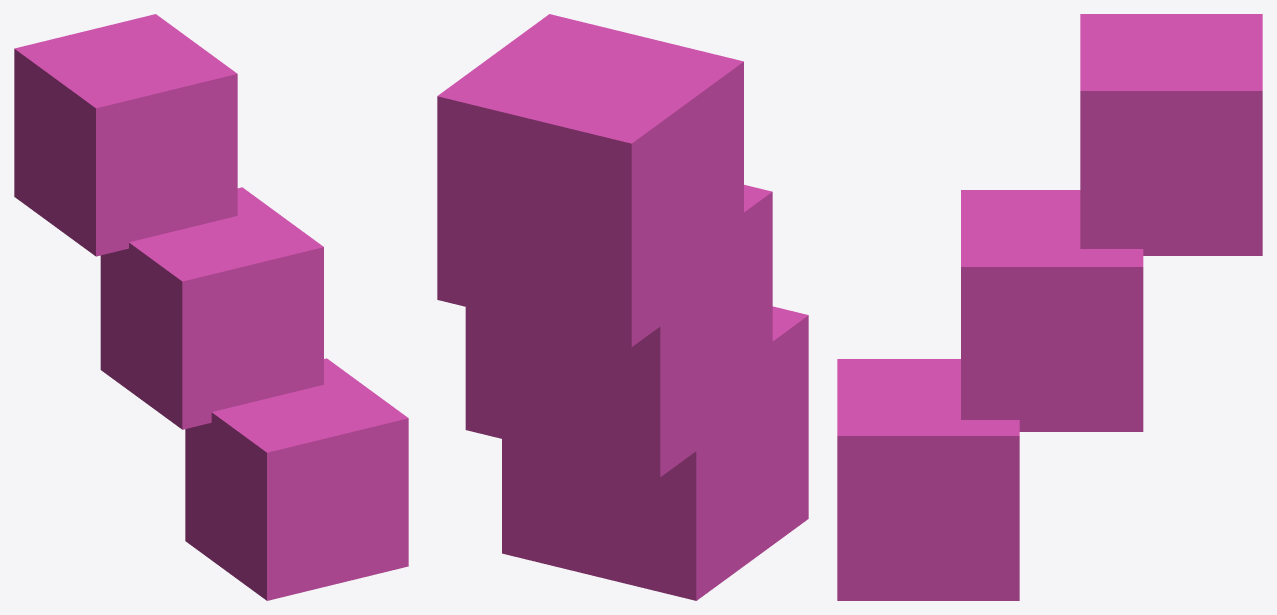
The picture shows the model from 3 angles, left to right: view 1: azimuth 30°, elevation 25°; view 2: azimuth 150°, elevation 25°; view 3: azimuth 270°, elevation 25°; orthographic projection. The views are drawn at different scales.
Visible parts, largest first — view 1: Cube.002, Cube, Cube.001; view 2: Cube.002, Cube.001, Cube; view 3: Cube.002, Cube, Cube.001.
Part boxes in pixels (box(x1,y1,x2,y2)): Cube.002: box(14, 14, 237, 256); Cube: box(185, 358, 408, 600); Cube.001: box(100, 187, 323, 429); Cube.002: box(437, 14, 743, 347); Cube.001: box(465, 184, 772, 477); Cube: box(502, 306, 808, 600); Cube.002: box(1080, 14, 1262, 255); Cube: box(837, 359, 1019, 600); Cube.001: box(961, 190, 1143, 431).
Size of the model in its own units: 2.88 by 5.77 by 4.67.
